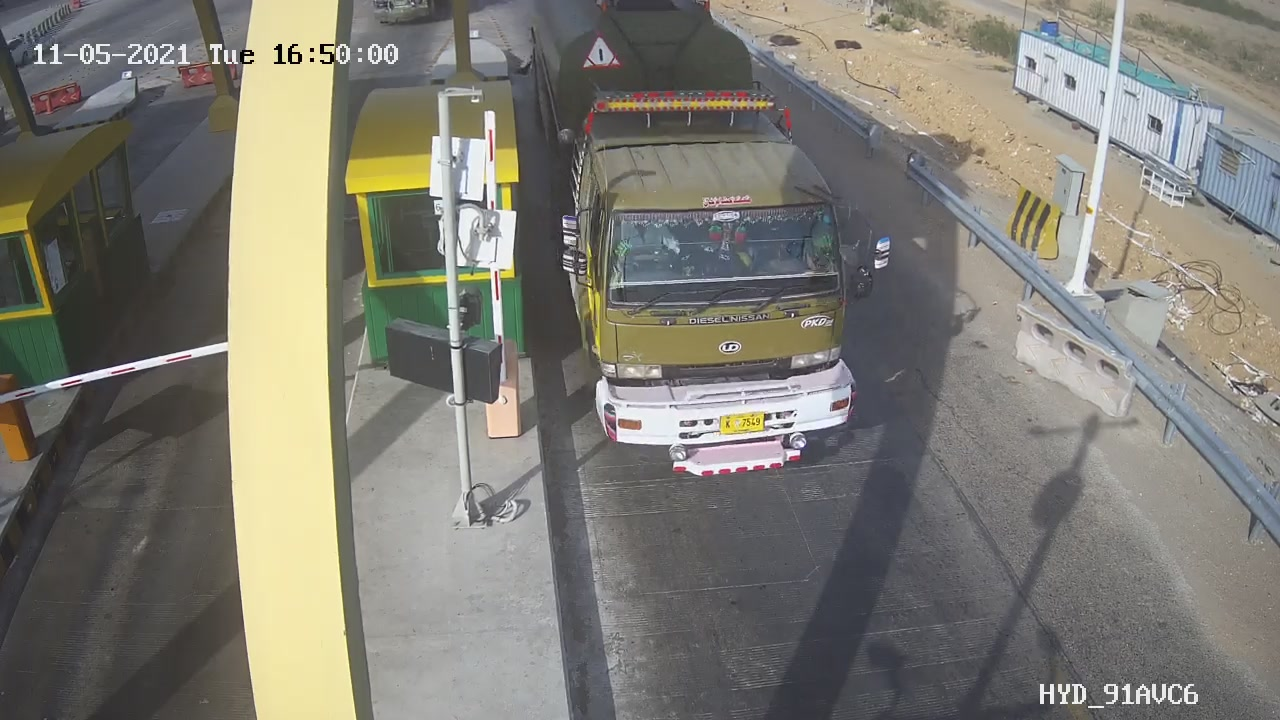F6: (514, 3, 917, 508)
